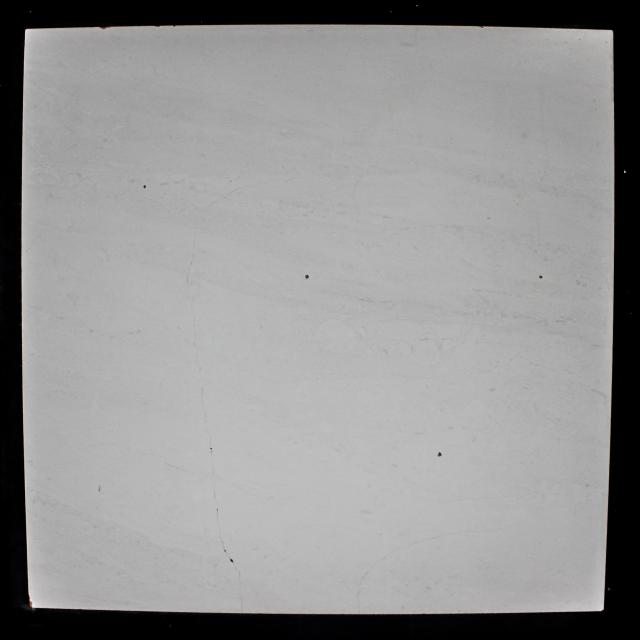edge-chipping: (28, 595, 34, 608), (98, 26, 112, 30), (154, 26, 161, 28), (480, 26, 484, 28), (173, 25, 176, 27)
hole: (436, 451, 443, 457), (304, 274, 310, 279), (229, 558, 234, 563), (142, 184, 146, 189), (539, 276, 542, 278), (210, 447, 212, 450), (224, 550, 226, 552)
line: (409, 536, 439, 547), (187, 253, 194, 282), (360, 569, 370, 583), (356, 588, 361, 613), (374, 556, 386, 564), (234, 566, 241, 578), (211, 466, 215, 483), (229, 188, 240, 194), (214, 491, 218, 507), (216, 512, 220, 527), (240, 595, 243, 613), (222, 538, 224, 549)
